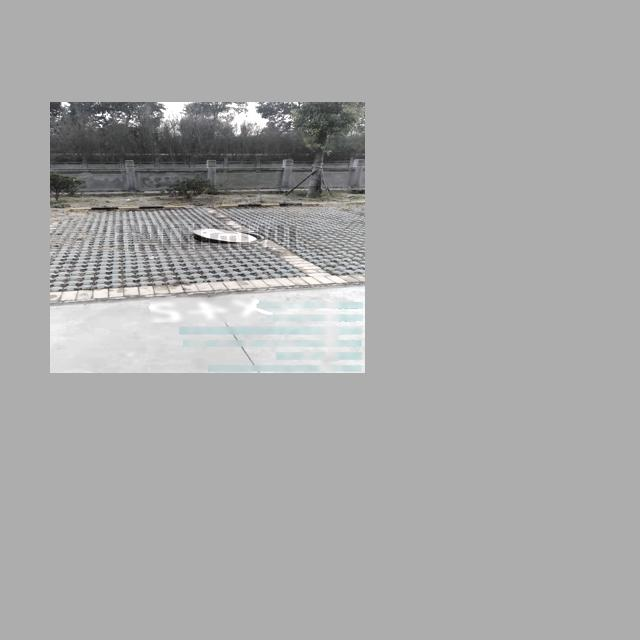uncovered: (188, 228, 266, 245)
